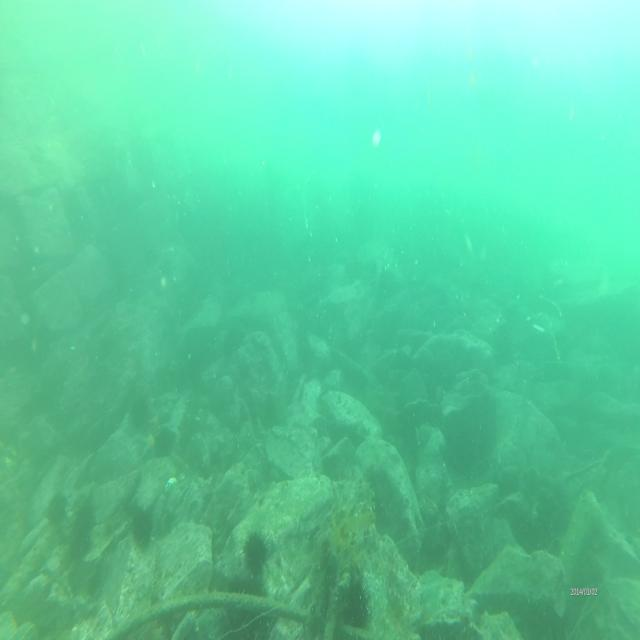echinus: (341, 576, 372, 628), (241, 530, 269, 576), (128, 508, 154, 547), (46, 490, 69, 523), (72, 522, 93, 554), (76, 495, 95, 529)
starfish: (139, 432, 158, 458)
